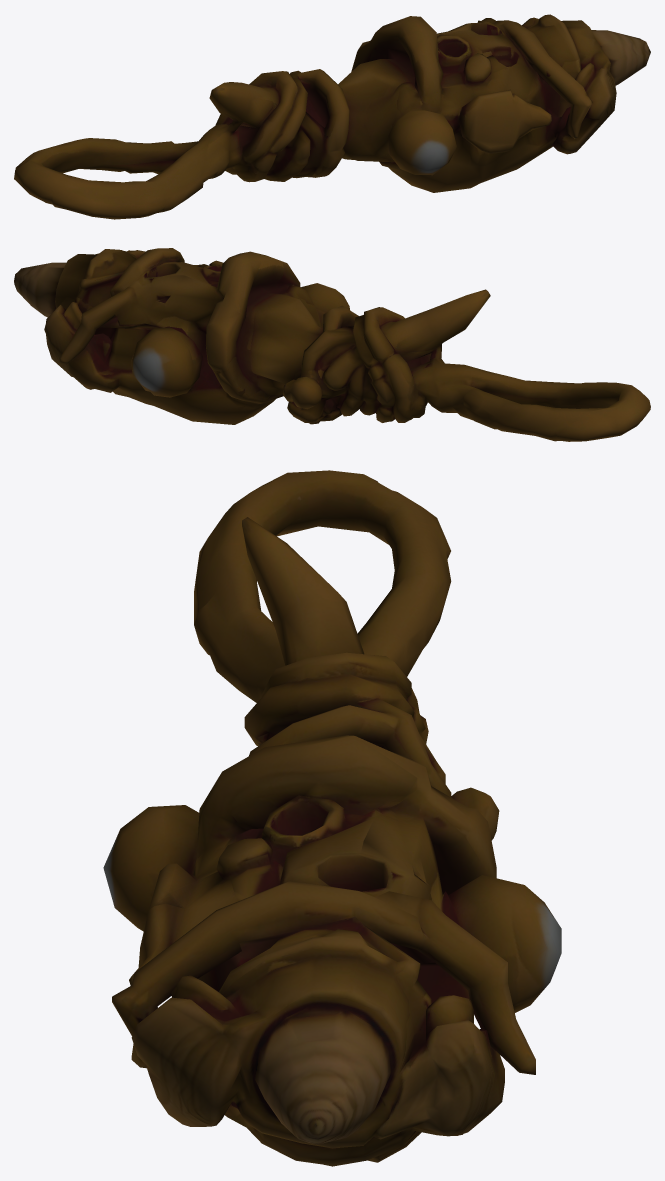
The model's file is boartooth_fetish.glb.
3 views of the same model, one above another, from view 1: azimuth 30°, elevation 25°; view 2: azimuth 150°, elevation 25°; view 3: azimuth 270°, elevation 25° (orthographic). The views are drawn at different scales.
Parts seen in each view (by area): view 1: base_model_path; view 2: base_model_path; view 3: base_model_path.
Boxes of the visible parts, box(x1,y1,x2,y2) form: base_model_path: box(14, 14, 650, 219); base_model_path: box(14, 248, 650, 441); base_model_path: box(103, 470, 561, 1166).
Bounding box in the file's own units: 0.9997 × 0.2641 × 0.3169.
Materials: 1 (1 with a texture image).
